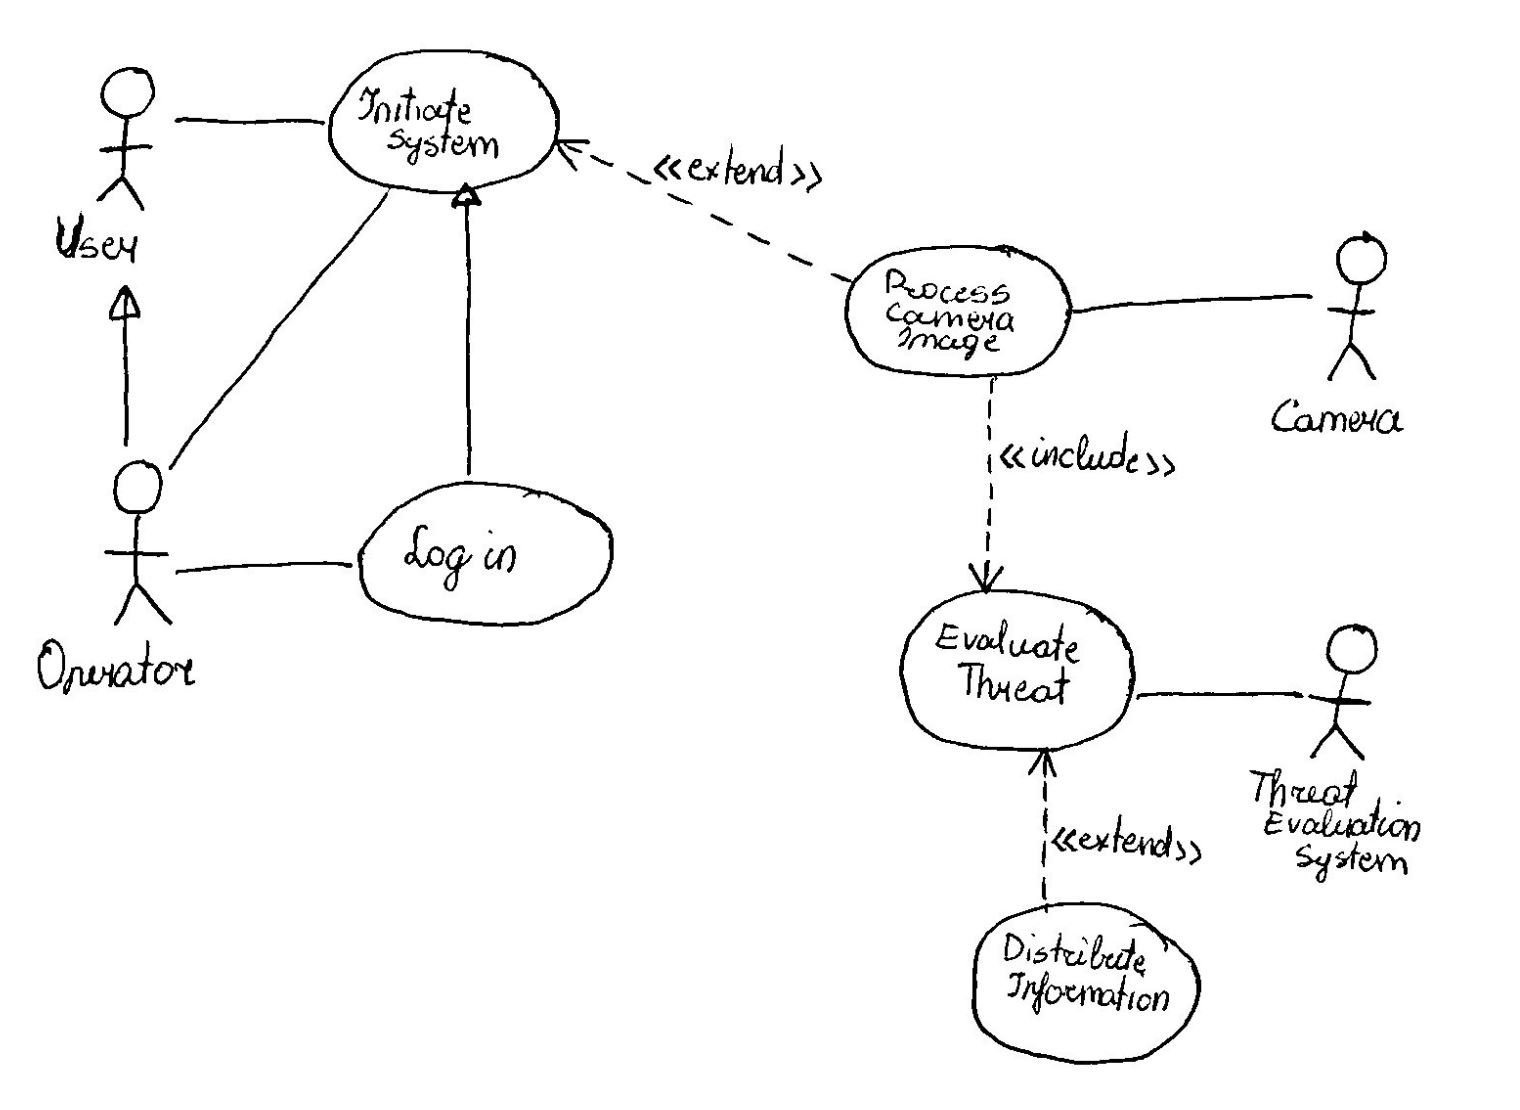actor: (101, 459, 176, 630), (1318, 229, 1394, 385), (1309, 619, 1378, 762), (98, 64, 153, 219)
association: (169, 188, 388, 464), (552, 136, 851, 285), (1070, 280, 1313, 326), (968, 376, 1008, 592), (160, 97, 328, 136), (1133, 674, 1304, 709), (1026, 747, 1061, 909), (175, 551, 353, 582)
generalization: (448, 180, 489, 480), (106, 278, 148, 451)
text: (1238, 769, 1431, 886), (1003, 922, 1178, 1019), (933, 618, 1086, 722), (352, 79, 509, 168), (887, 265, 1023, 360), (28, 632, 207, 703), (992, 436, 1190, 490), (402, 515, 529, 595), (650, 143, 831, 195), (1051, 814, 1208, 871), (37, 211, 159, 272), (1259, 392, 1411, 439)
use_case: (354, 478, 617, 632), (898, 589, 1136, 755), (972, 900, 1203, 1066), (327, 46, 563, 195), (841, 244, 1072, 382)
